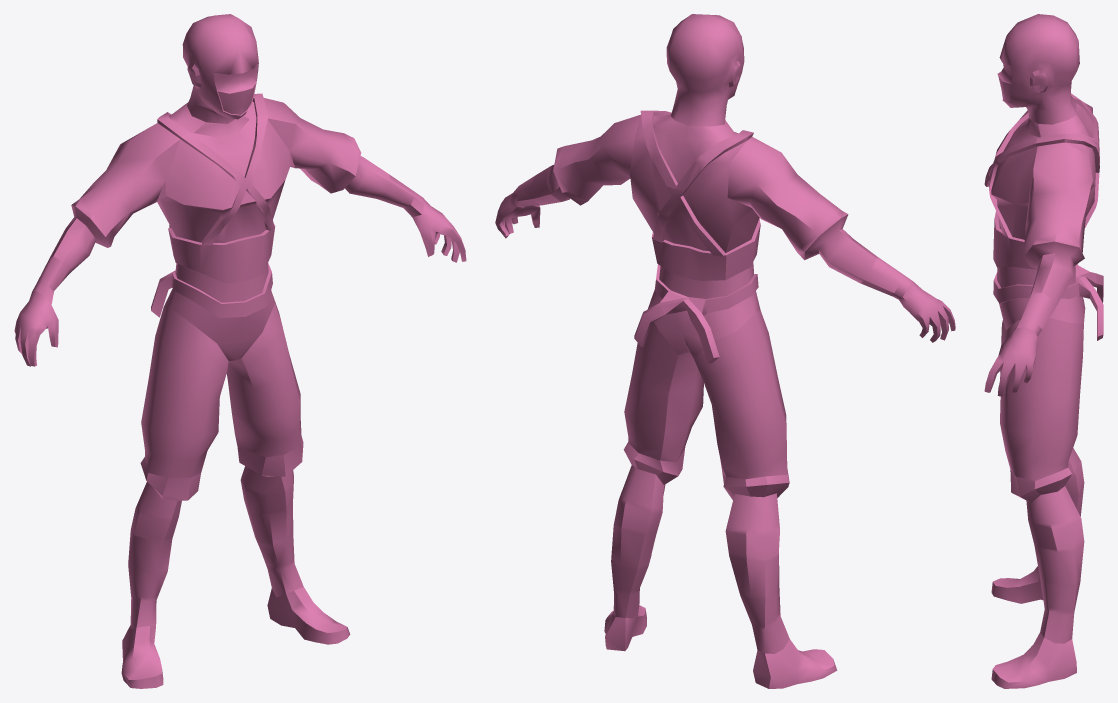
3 views of the same model, side by side, from view 1: azimuth 30°, elevation 25°; view 2: azimuth 150°, elevation 25°; view 3: azimuth 270°, elevation 25° (orthographic). The views are drawn at different scales.
Visible parts, largest first — view 1: split_parent_0; view 2: split_parent_0; view 3: split_parent_0.
Boxes of the visible parts, <box> form: split_parent_0: <box>14,14,466,688</box>; split_parent_0: <box>495,14,955,688</box>; split_parent_0: <box>984,14,1103,688</box>.
Bounding box in the file's own units: 0.7254 × 1 × 0.1742.
